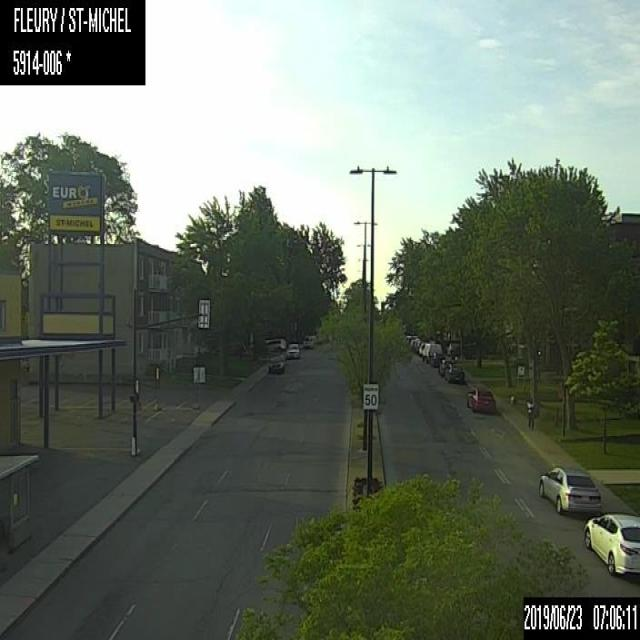pedestrian: (524, 393, 535, 431)
vehicle: (581, 507, 639, 577), (540, 468, 603, 518), (465, 383, 496, 413), (266, 349, 284, 374), (447, 365, 465, 385), (427, 342, 442, 364), (284, 340, 300, 360), (438, 357, 450, 378), (302, 335, 314, 349)
